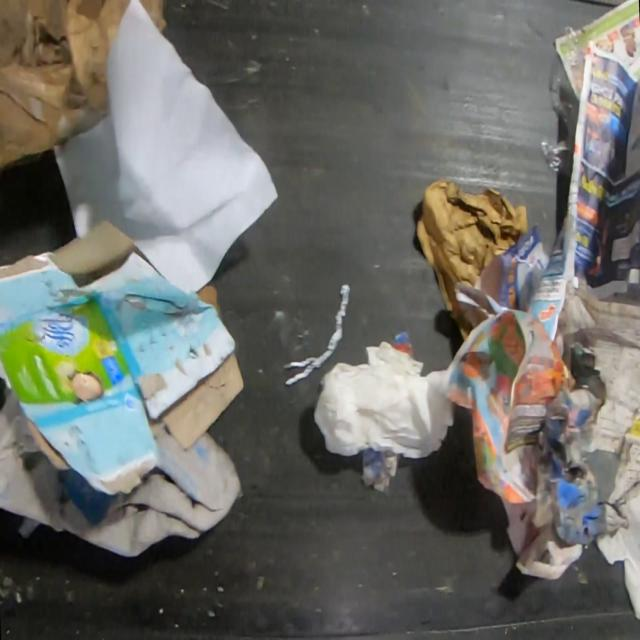cardboard: (0, 220, 245, 528), (0, 1, 169, 170)
soft_plastic: (551, 32, 589, 142), (542, 140, 574, 182)
